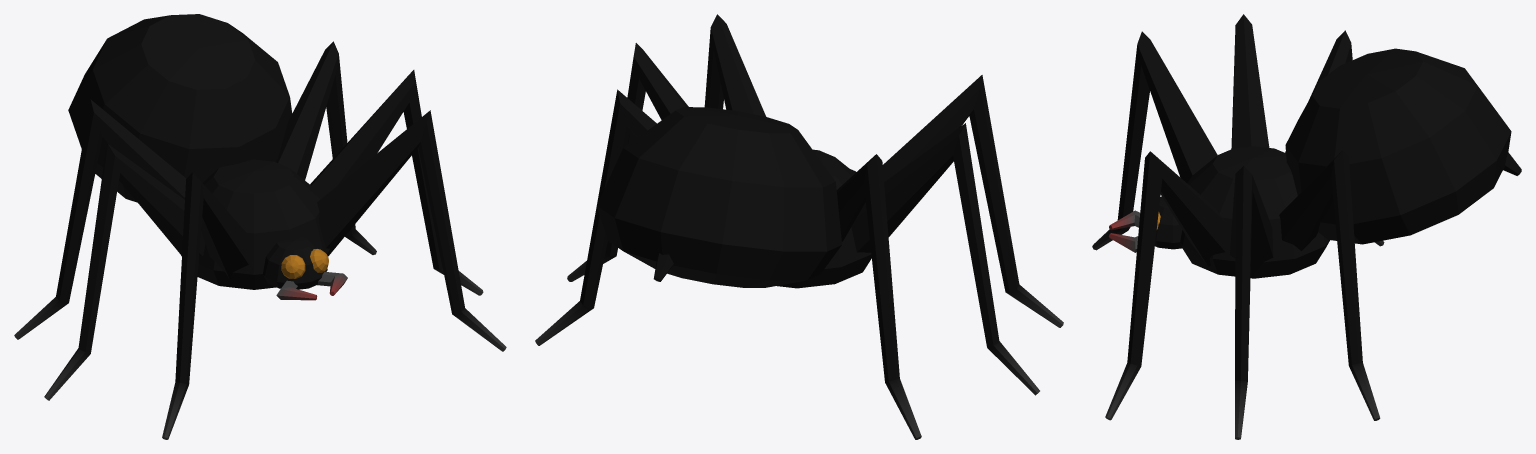
Rendered from BigSpider.FBX.
3 views of the same model, side by side, from view 1: azimuth 30°, elevation 25°; view 2: azimuth 150°, elevation 25°; view 3: azimuth 270°, elevation 25° (orthographic). The views are drawn at different scales.
Parts seen in each view (by area): view 1: Spider; view 2: Spider; view 3: Spider.
Part boxes in pixels (x1,y1,x2,y2): Spider: (14,14,506,439); Spider: (535,14,1063,439); Spider: (1092,14,1521,439).
Bounding box in the file's own units: 22.19 × 12.91 × 18.55.
